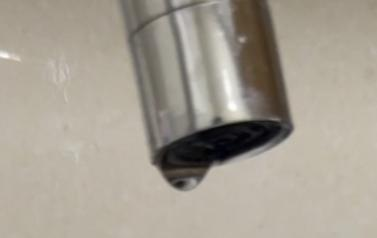water drop: (154, 163, 213, 193)
